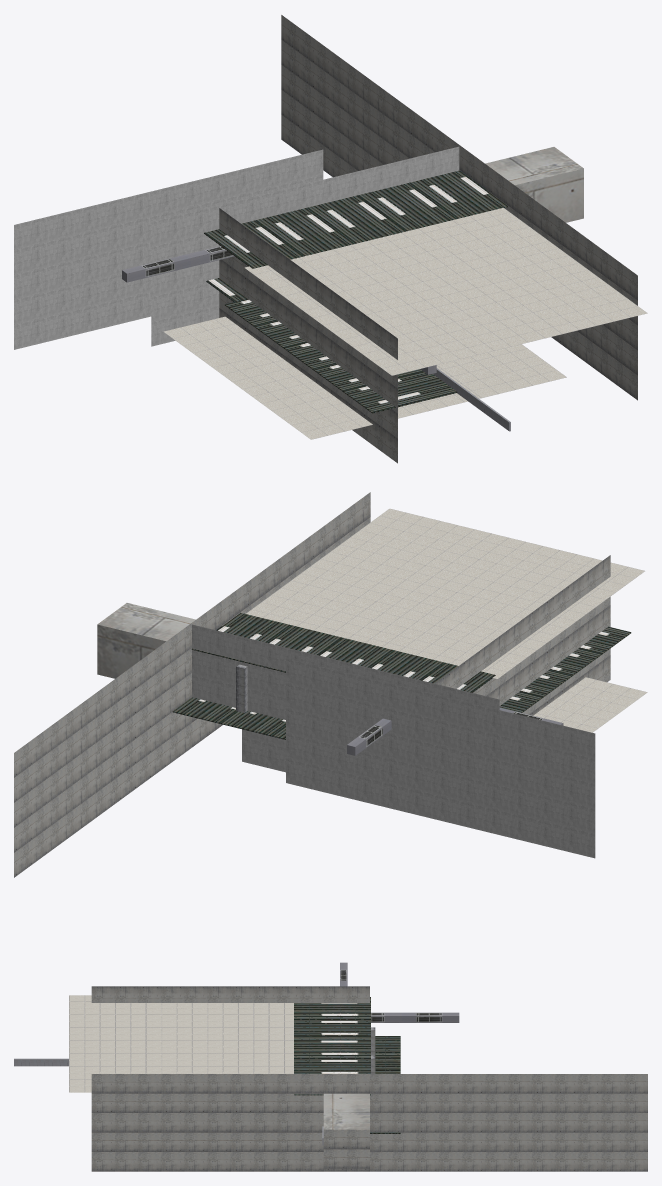
The model's file is changjing-1.FBX.
3 views of the same model, one above another, from view 1: azimuth 30°, elevation 25°; view 2: azimuth 150°, elevation 25°; view 3: azimuth 270°, elevation 25° (orthographic). The views are drawn at different scales.
Visible parts, largest first — view 1: Plane006, Box065, Box136, Plane005, Box134, Box144, Box135, Box140, Box133, Box075, Box131; view 2: Box065, Plane006, Box136, Box144, Box134, Box135, Box140, Plane005, Box133, Box023, Box139, Box143; view 3: Box134, Box136, Plane006, Box140, Box135, Box023, Box139, Box131.
Boxes of the visible parts, x1,y1,x2,y2 form: Plane006: [244, 207, 647, 375]; Box065: [14, 149, 323, 349]; Box136: [281, 15, 459, 177]; Plane005: [163, 316, 566, 439]; Box134: [459, 145, 637, 400]; Box144: [151, 146, 459, 346]; Box135: [219, 208, 397, 463]; Box140: [204, 170, 507, 268]; Box133: [224, 299, 457, 413]; Box075: [122, 246, 234, 282]; Box131: [433, 368, 510, 431]; Box065: [286, 658, 595, 858]; Plane006: [246, 508, 644, 678]; Box136: [14, 623, 192, 877]; Box144: [192, 624, 499, 772]; Box134: [97, 492, 370, 746]; Box135: [435, 555, 610, 715]; Box140: [191, 613, 495, 692]; Plane005: [533, 677, 647, 732]; Box133: [499, 626, 631, 712]; Box023: [172, 697, 285, 739]; Box139: [347, 718, 391, 755]; Box143: [236, 664, 247, 712]; Box134: [91, 1074, 369, 1171]; Box136: [370, 1074, 647, 1171]; Plane006: [69, 995, 293, 1092]; Box140: [294, 997, 370, 1095]; Box135: [91, 986, 369, 1002]; Box023: [370, 1036, 400, 1133]; Box139: [371, 1012, 459, 1022]; Box131: [14, 1058, 68, 1066].
Size of the model in its own units: 30419 by 7696 by 41251.
